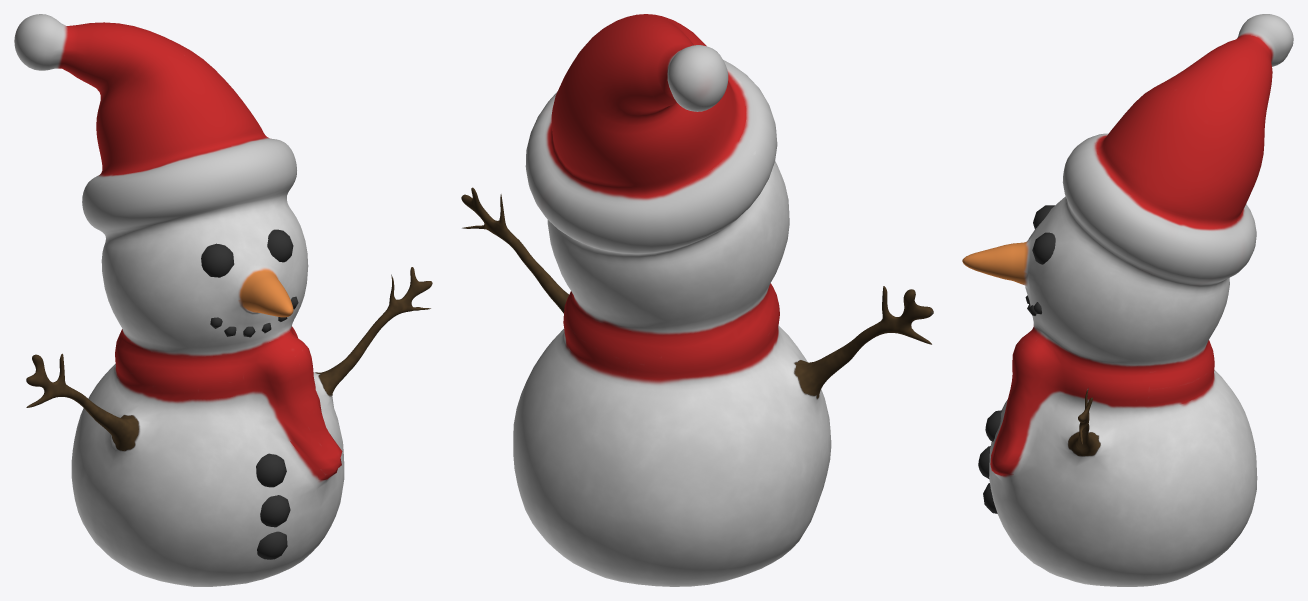
3 views of the same model, side by side, from view 1: azimuth 30°, elevation 25°; view 2: azimuth 150°, elevation 25°; view 3: azimuth 270°, elevation 25° (orthographic). The views are drawn at different scales.
Parts seen in each view (by area): view 1: Retopo_model_LOD0.002, Icosphere.007, Icosphere.008, Icosphere.009, Icosphere.010, Icosphere.006; view 2: Retopo_model_LOD0.002; view 3: Retopo_model_LOD0.002, Icosphere.006.
Part boxes in pixels (<box>): Retopo_model_LOD0.002: <box>14,14,432,586</box>; Icosphere.007: <box>201,243,234,277</box>; Icosphere.008: <box>256,453,286,487</box>; Icosphere.009: <box>260,495,290,527</box>; Icosphere.010: <box>257,531,287,559</box>; Icosphere.006: <box>267,229,293,262</box>; Retopo_model_LOD0.002: <box>461,14,933,586</box>; Retopo_model_LOD0.002: <box>962,14,1293,586</box>; Icosphere.006: <box>1032,232,1055,264</box>.
Bounding box in the file's own units: 1.59 × 1.91 × 1.16.
1 material, 1 textured.
